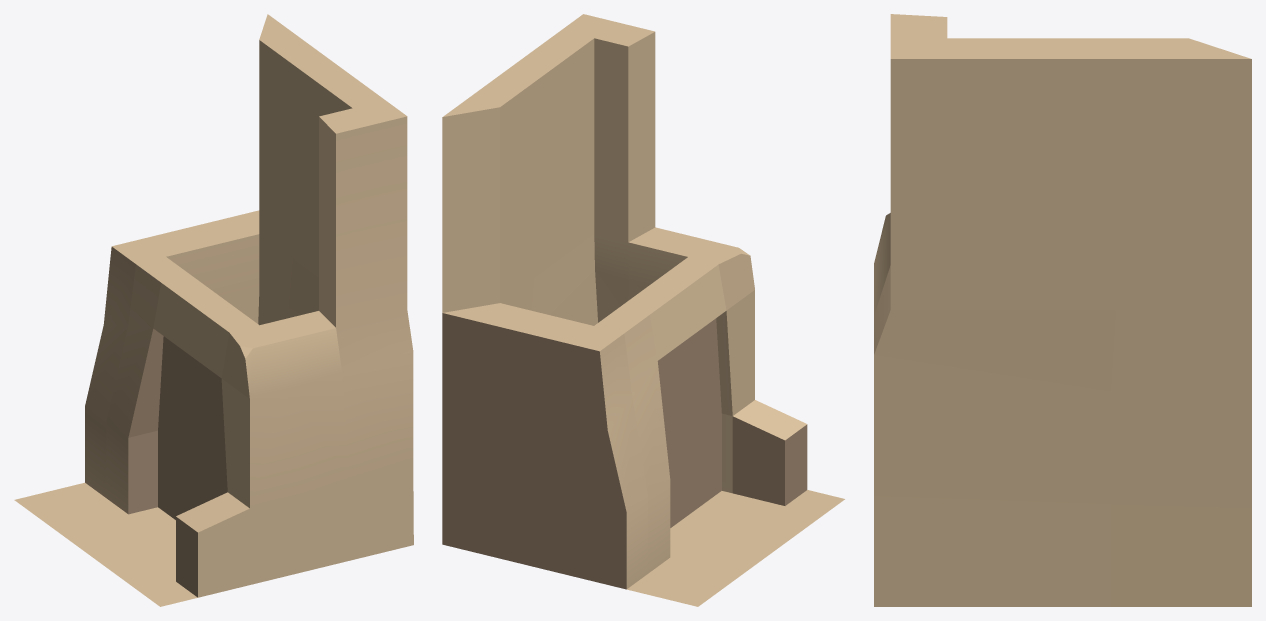
The model's file is WallRevolvingDoor.fbx.
3 renders of one model, left to right at view 1: azimuth 30°, elevation 25°; view 2: azimuth 150°, elevation 25°; view 3: azimuth 270°, elevation 25°, orthographic. The views are drawn at different scales.
Visible parts, largest first — view 1: WallRevolvingDoor, WallRevolvingDoorDoor; view 2: WallRevolvingDoor, WallRevolvingDoorDoor; view 3: WallRevolvingDoor.
Part boxes in pixels (x1,y1,x2,y2): WallRevolvingDoor: (14,14,413,606); WallRevolvingDoorDoor: (158,336,227,519); WallRevolvingDoor: (442,14,844,606); WallRevolvingDoorDoor: (657,318,721,527); WallRevolvingDoor: (874,14,1251,606).
Size of the model in its own units: 5.01 by 8 by 5.
